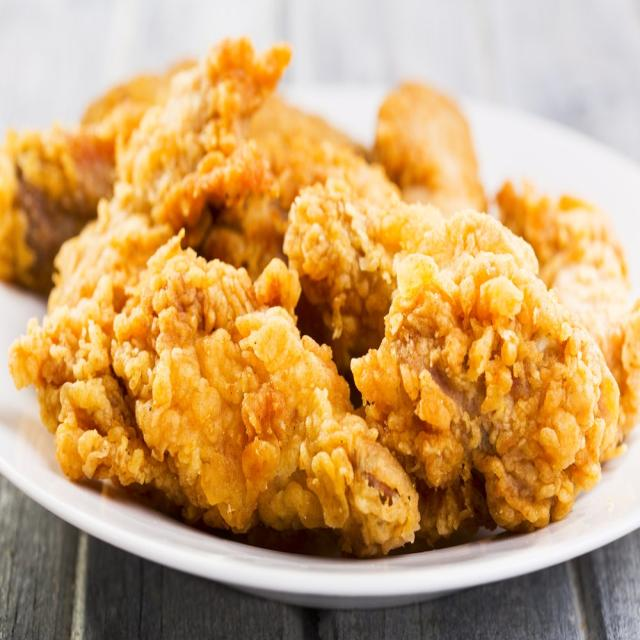Frango: (5, 232, 423, 560), (286, 160, 628, 538)
